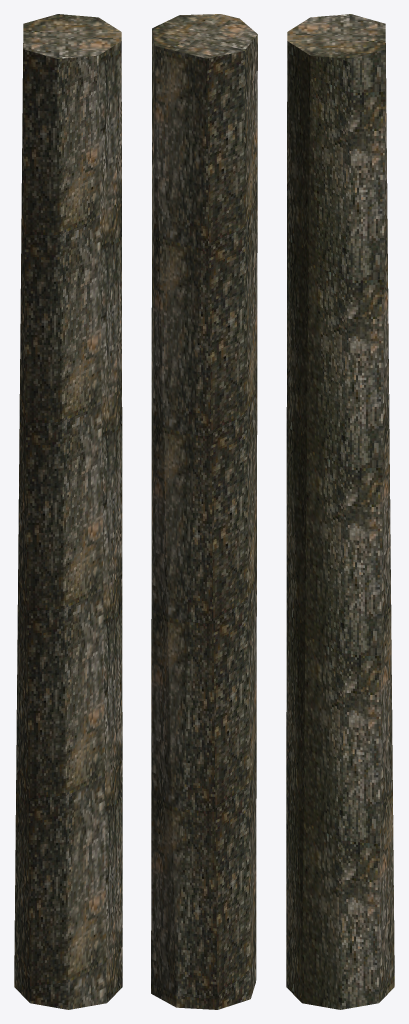
The model's file is Tree.fbx.
The picture shows the model from 3 angles, left to right: view 1: azimuth 90°, elevation 25°; view 2: azimuth 150°, elevation 25°; view 3: azimuth 270°, elevation 25°; orthographic projection.
Visible parts, largest first — view 1: Cylinder; view 2: Cylinder; view 3: Cylinder.
Boxes of the visible parts, bbox=[...] form: Cylinder: bbox=[14, 14, 122, 1009]; Cylinder: bbox=[151, 14, 257, 1009]; Cylinder: bbox=[286, 14, 394, 1009].
Size of the model in its own units: 200 by 1931 by 200.
